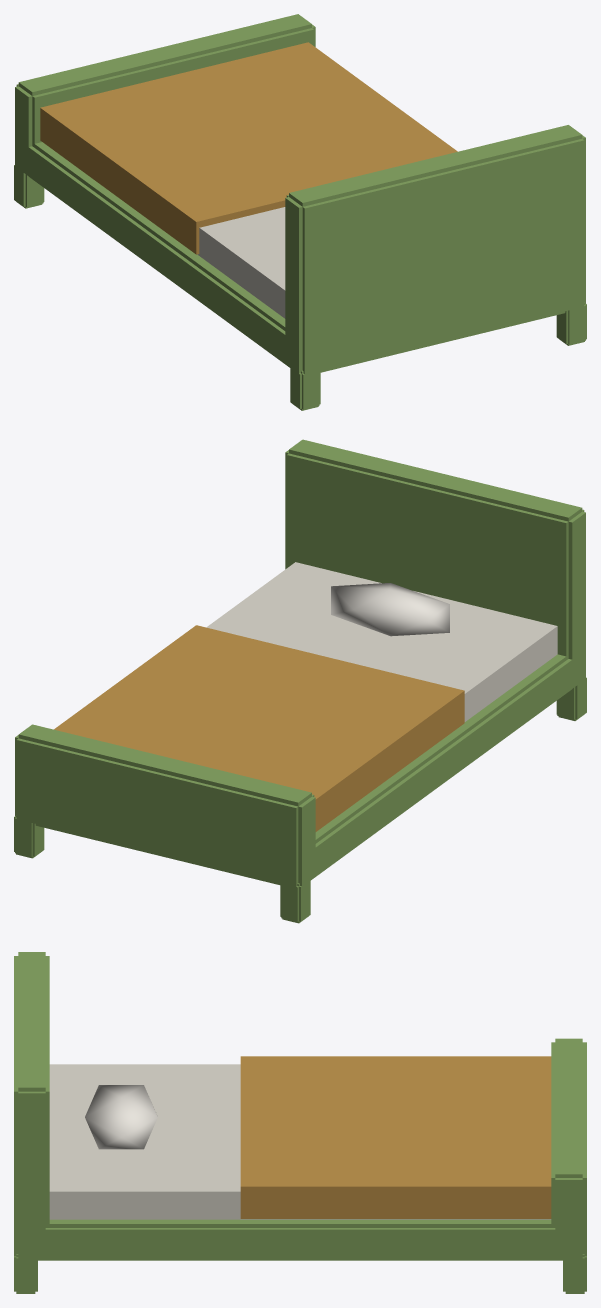
File: cactus_bed_v0.glb
3 views of the same model, one above another, from view 1: azimuth 30°, elevation 25°; view 2: azimuth 150°, elevation 25°; view 3: azimuth 270°, elevation 25° (orthographic).
Parts seen in each view (by area): view 1: cactus_bed_v0; view 2: cactus_bed_v0; view 3: cactus_bed_v0.
Boxes of the visible parts, x1,y1,x2,y2 form: cactus_bed_v0: (14, 14, 586, 410); cactus_bed_v0: (14, 439, 586, 923); cactus_bed_v0: (14, 952, 586, 1293).
Bounding box in the file's own units: 1.38 × 0.95 × 2.4.
